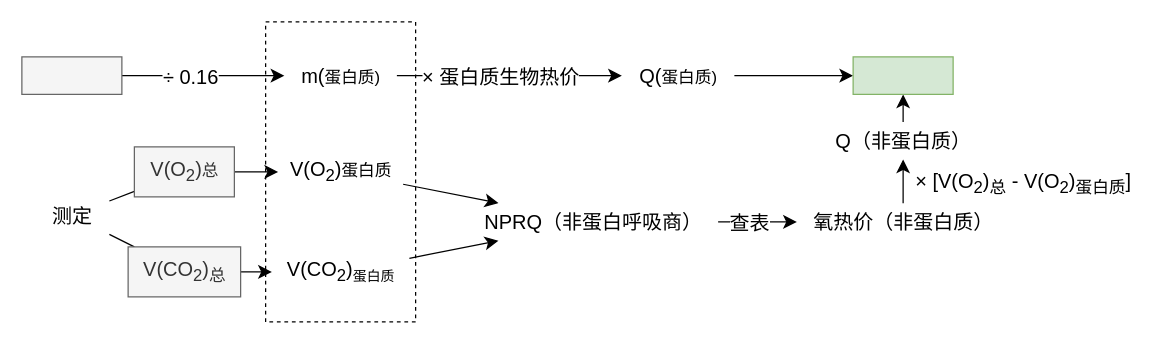
The diagram is 1153 pixels wide and 344 high, and some of its shapes have lost their labels. The box of each missing label's shape, as (x1, y1, x2, y2) in pixels:
m(尿氮): (21, 56, 122, 94)
Q（总）: (852, 56, 953, 94)
